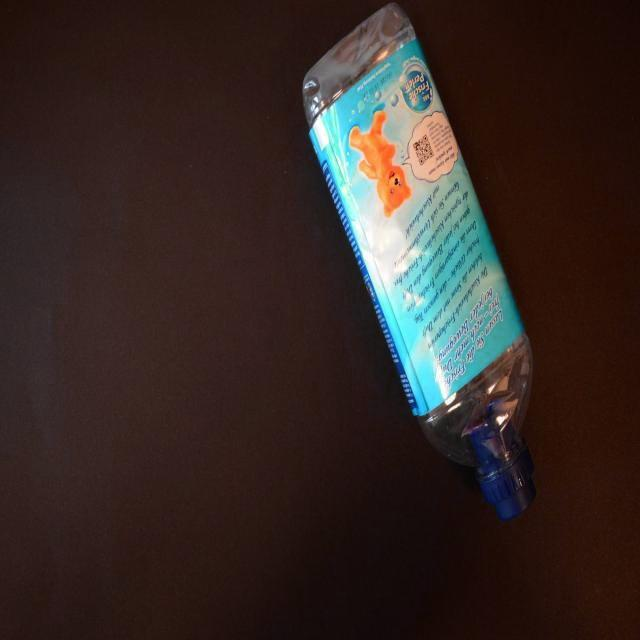bottle: (302, 3, 537, 521)
